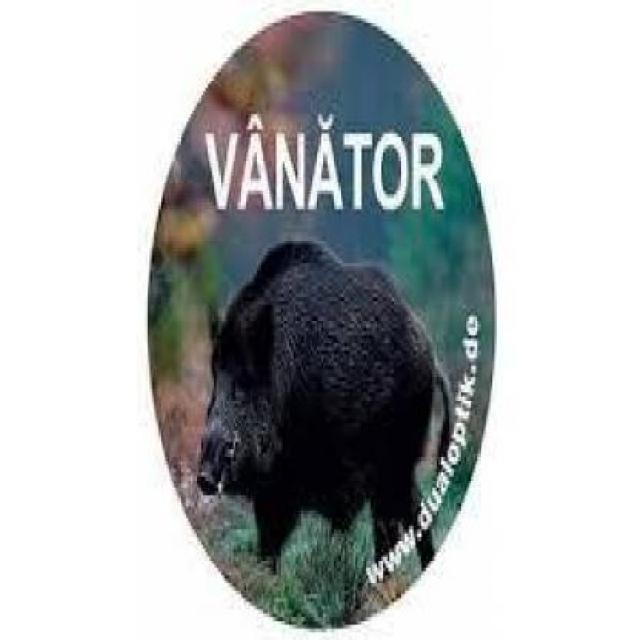wildboar: (195, 233, 458, 589)
